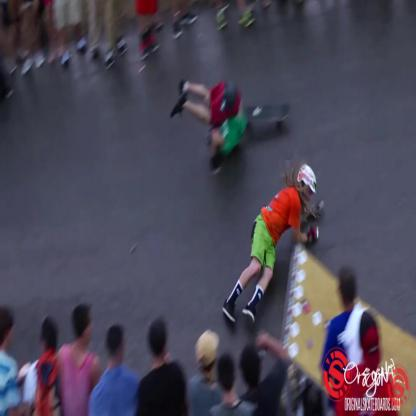Fall_Down: (222, 167, 326, 327)
